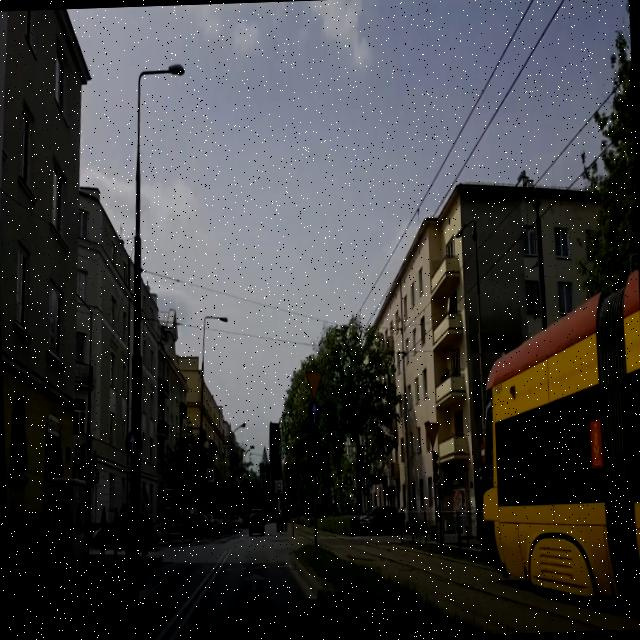Droga z pierwszenstwem: (284, 450, 294, 464)
Przejscie dla pieszych: (364, 473, 370, 489)
Ustap pierwszenstwa: (304, 368, 322, 400), (424, 420, 440, 448)
Zakaz wjazdu: (479, 442, 486, 464)
